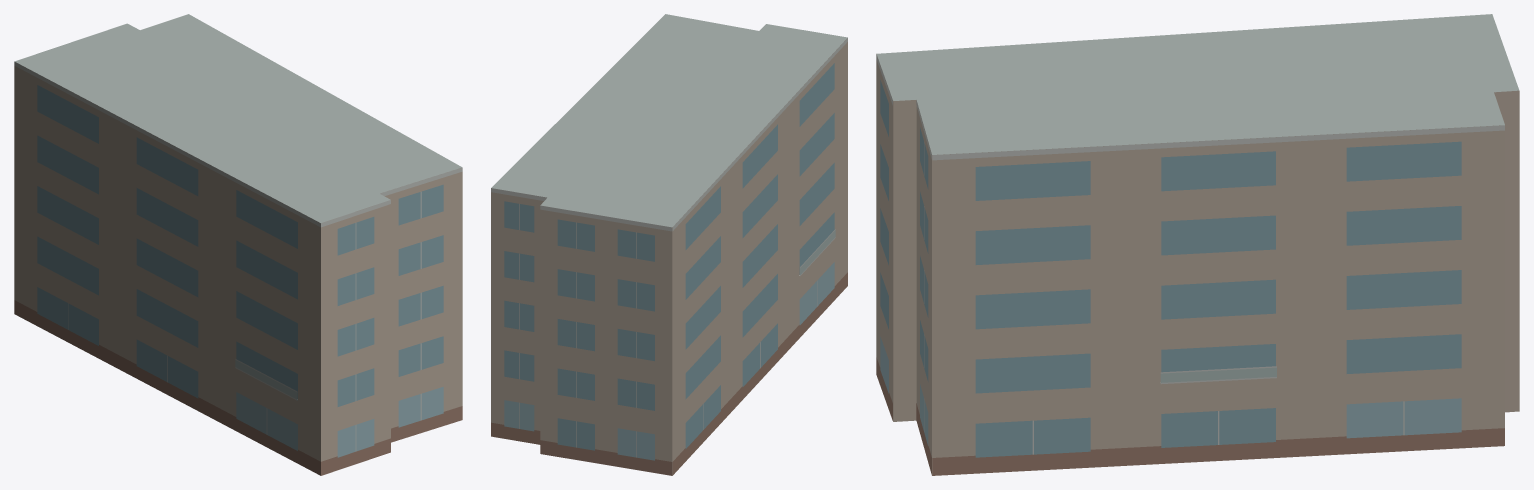
File: survey-upis-32576561.glb
3 renders of one model, left to right at view 1: azimuth 30°, elevation 25°; view 2: azimuth 150°, elevation 25°; view 3: azimuth 270°, elevation 25°, orthographic. The views are drawn at different scales.
Parts seen in each view (by area): view 1: survey-upis-32576561.tmp; view 2: survey-upis-32576561.tmp; view 3: survey-upis-32576561.tmp.
Boxes of the visible parts, <box> form: survey-upis-32576561.tmp: <box>14,14,462,475</box>; survey-upis-32576561.tmp: <box>491,14,847,475</box>; survey-upis-32576561.tmp: <box>876,14,1519,475</box>.
Size of the model in its own units: 13.77 by 14.6 by 26.53.
